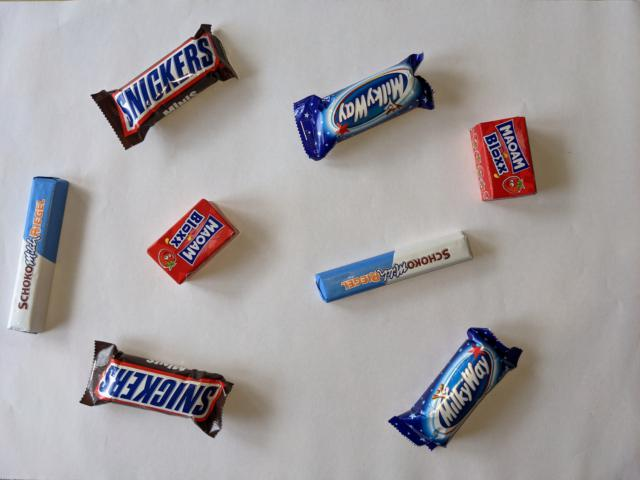MAOAM: (144, 196, 242, 287), (467, 114, 539, 205)
MilkyWay: (386, 325, 526, 452), (291, 50, 438, 163)
Schokoriegel: (312, 225, 476, 307), (4, 174, 71, 338)
Snickers: (88, 22, 240, 152), (76, 338, 236, 440)
